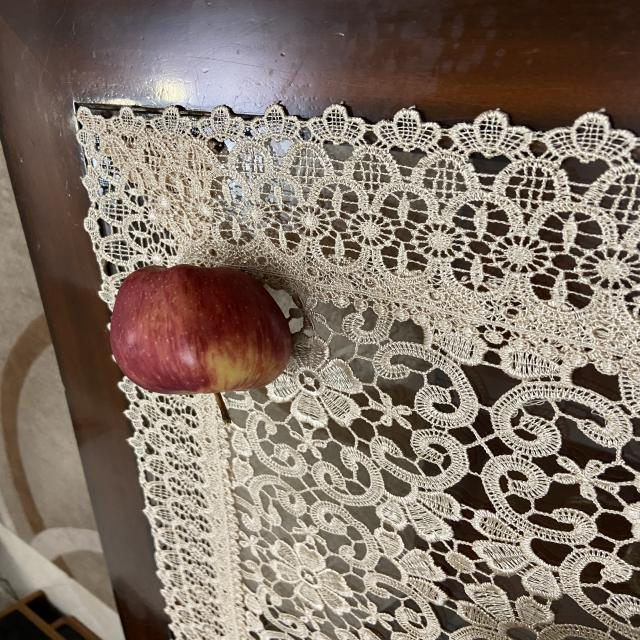apple: (104, 262, 294, 432)
